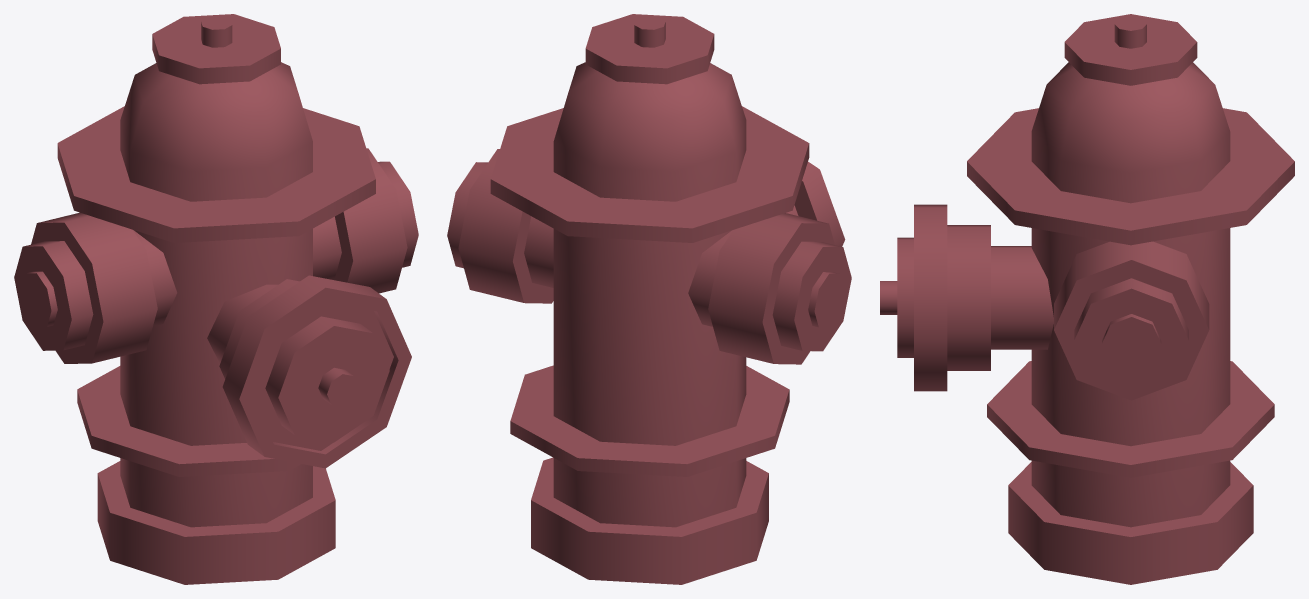
The picture shows the model from 3 angles, left to right: view 1: azimuth 30°, elevation 25°; view 2: azimuth 150°, elevation 25°; view 3: azimuth 270°, elevation 25°; orthographic projection.
Visible parts, largest first — view 1: Water Hydrant; view 2: Water Hydrant; view 3: Water Hydrant.
Boxes of the visible parts, x1,y1,x2,y2 form: Water Hydrant: (14,14,418,584); Water Hydrant: (447,14,851,584); Water Hydrant: (880,14,1294,584).
Bounding box in the file's own units: 0.5889 × 0.8 × 0.591.
1 material, 1 textured.
